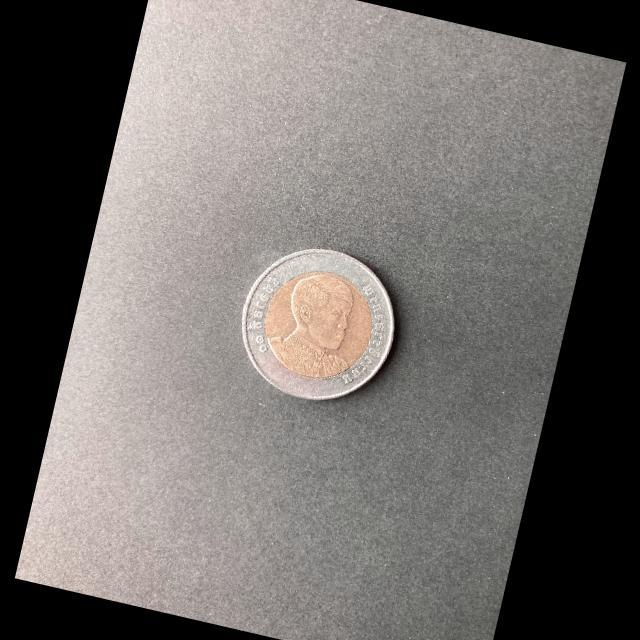10 Bath: (240, 242, 403, 405)
